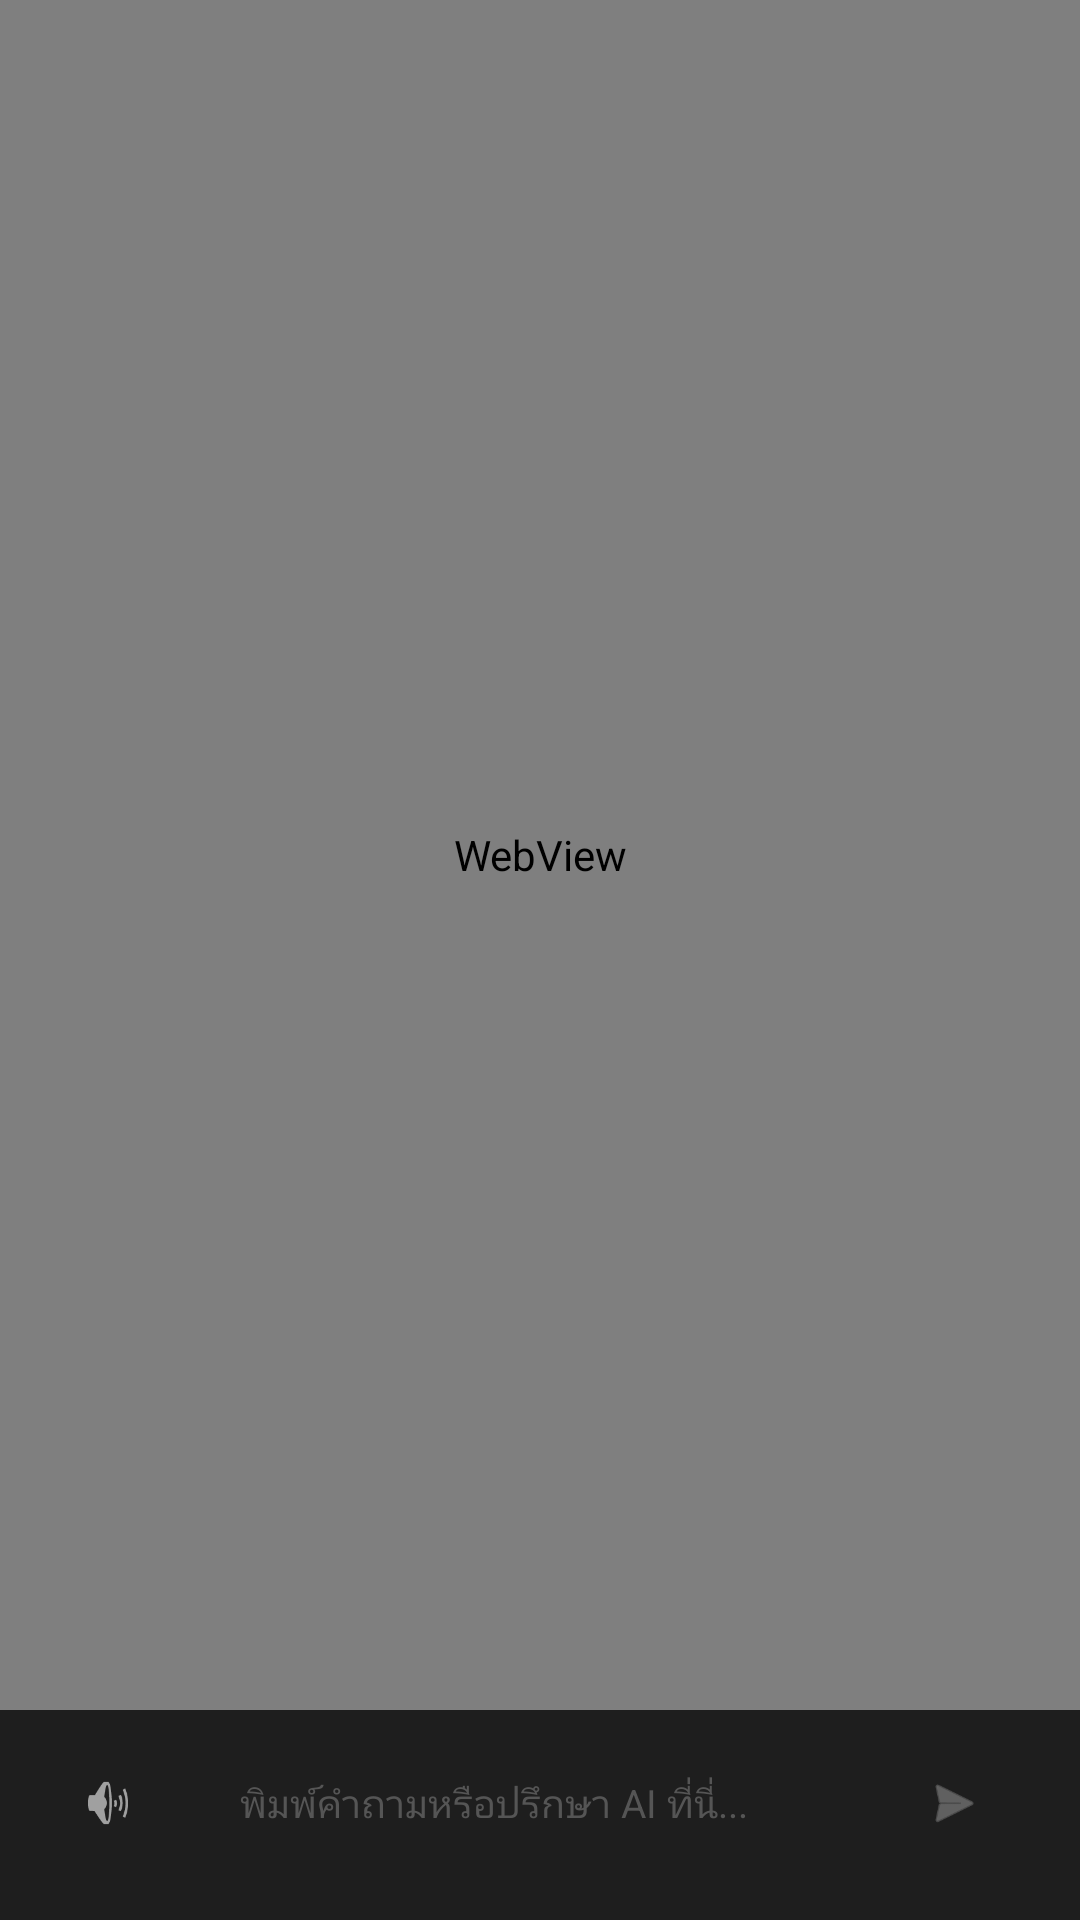

Icon bounding boxes for this 1080 x 1920 phone screenshot, format bbox=[x1, y1, x2, y2]:
ส่งคำถาม: bbox=[936, 1785, 973, 1822]
